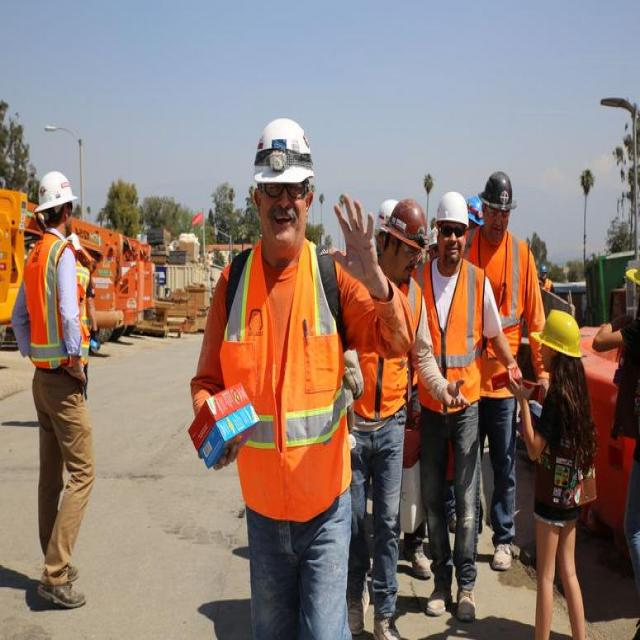Reflective-Jacket: (218, 238, 351, 516), (18, 233, 94, 380), (420, 257, 488, 409), (480, 228, 532, 392)
Safety-Helmet: (248, 111, 318, 186), (376, 194, 428, 248), (536, 307, 585, 358), (31, 165, 79, 217), (479, 166, 518, 214), (434, 188, 469, 228)
